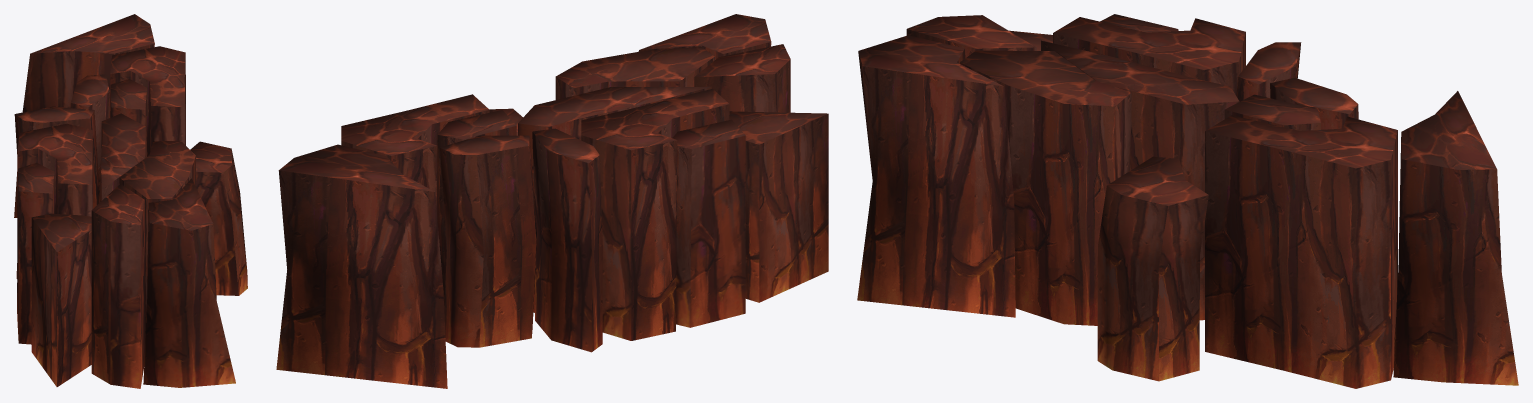
Rendered from terrain10.FBX.
3 views of the same model, side by side, from view 1: azimuth 30°, elevation 25°; view 2: azimuth 150°, elevation 25°; view 3: azimuth 270°, elevation 25° (orthographic). The views are drawn at different scales.
Visible parts, largest first — view 1: terrain10; view 2: terrain10; view 3: terrain10.
Part boxes in pixels (x1,y1,x2,y2): terrain10: (14, 14, 247, 388); terrain10: (276, 14, 828, 388); terrain10: (857, 14, 1518, 388).
Size of the model in its own units: 1104 by 1702 by 626.
